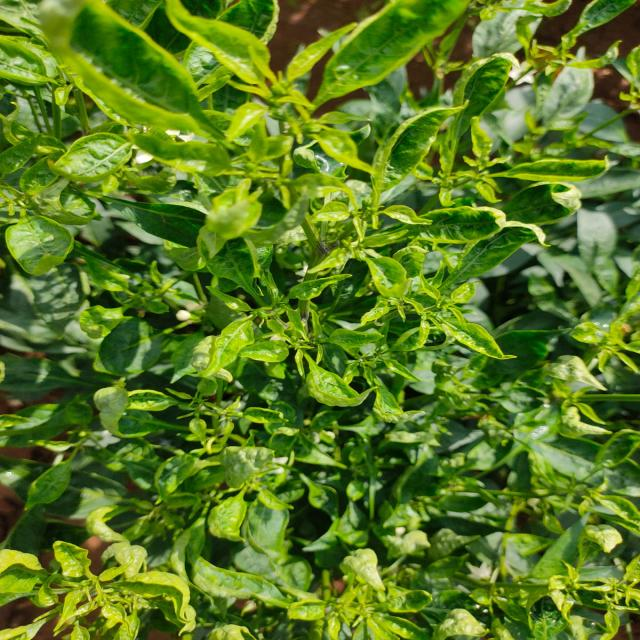Moko: (64, 0, 432, 242), (178, 231, 535, 425), (437, 30, 640, 202), (0, 491, 222, 640), (441, 516, 640, 640), (134, 418, 322, 524), (225, 557, 455, 640), (521, 294, 640, 396)
